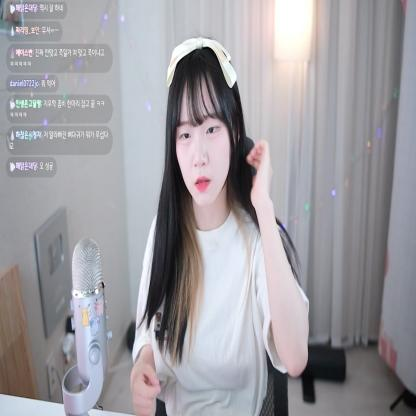streamer: (130, 36, 309, 416)
